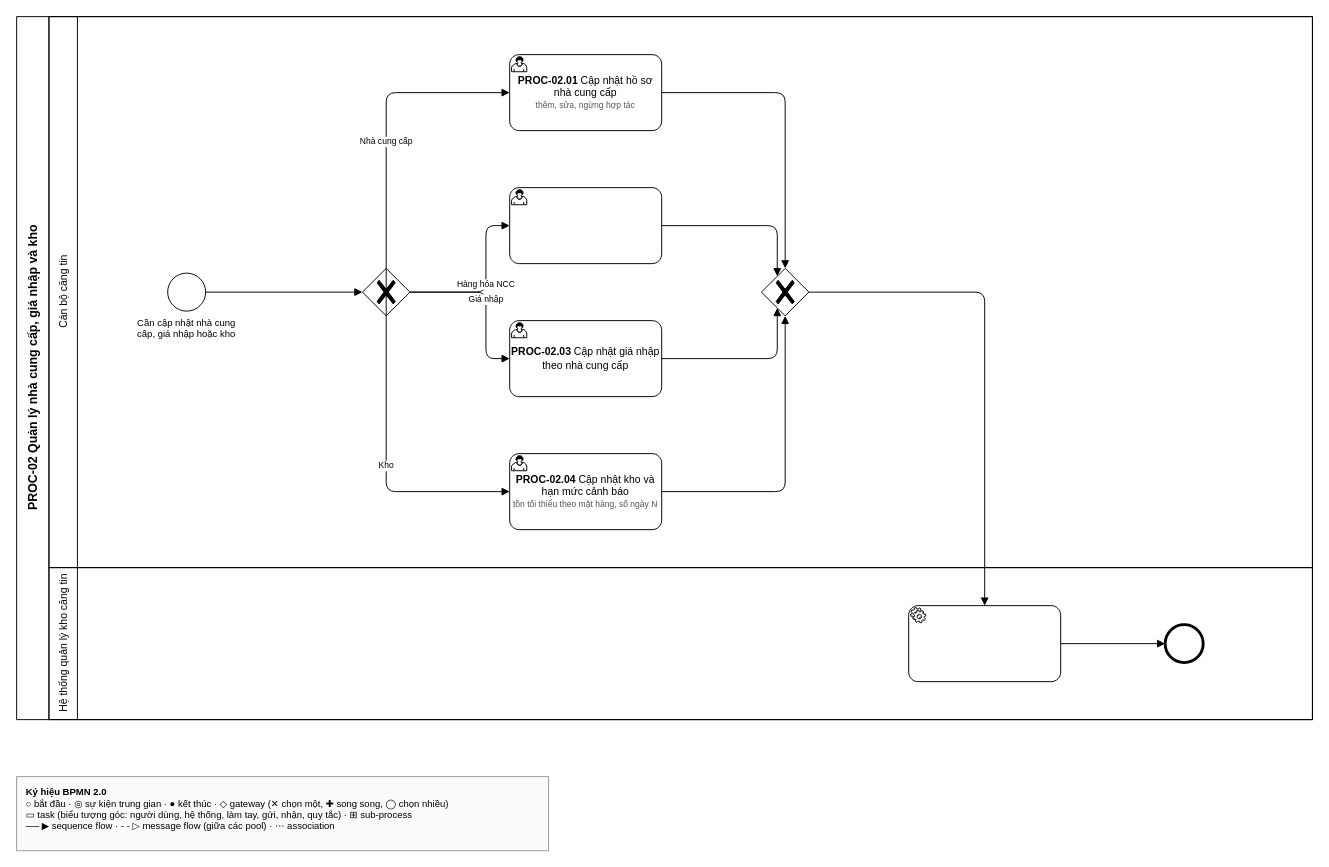
The diagram is 1329 pixels wide and 867 high, and some of its shapes have lost their labels. The centre of each missing label's shape, as x and y in pixels:
Cập nhật gì?: (385,291)
Danh mục Đã cập nhật: (1183,643)
PROC-02.02 Cập nhật hàng hóa theo nhà cung cấp: (585,225)
PROC-02.05 Lưu lịch sử thay đổi: (984,643)
